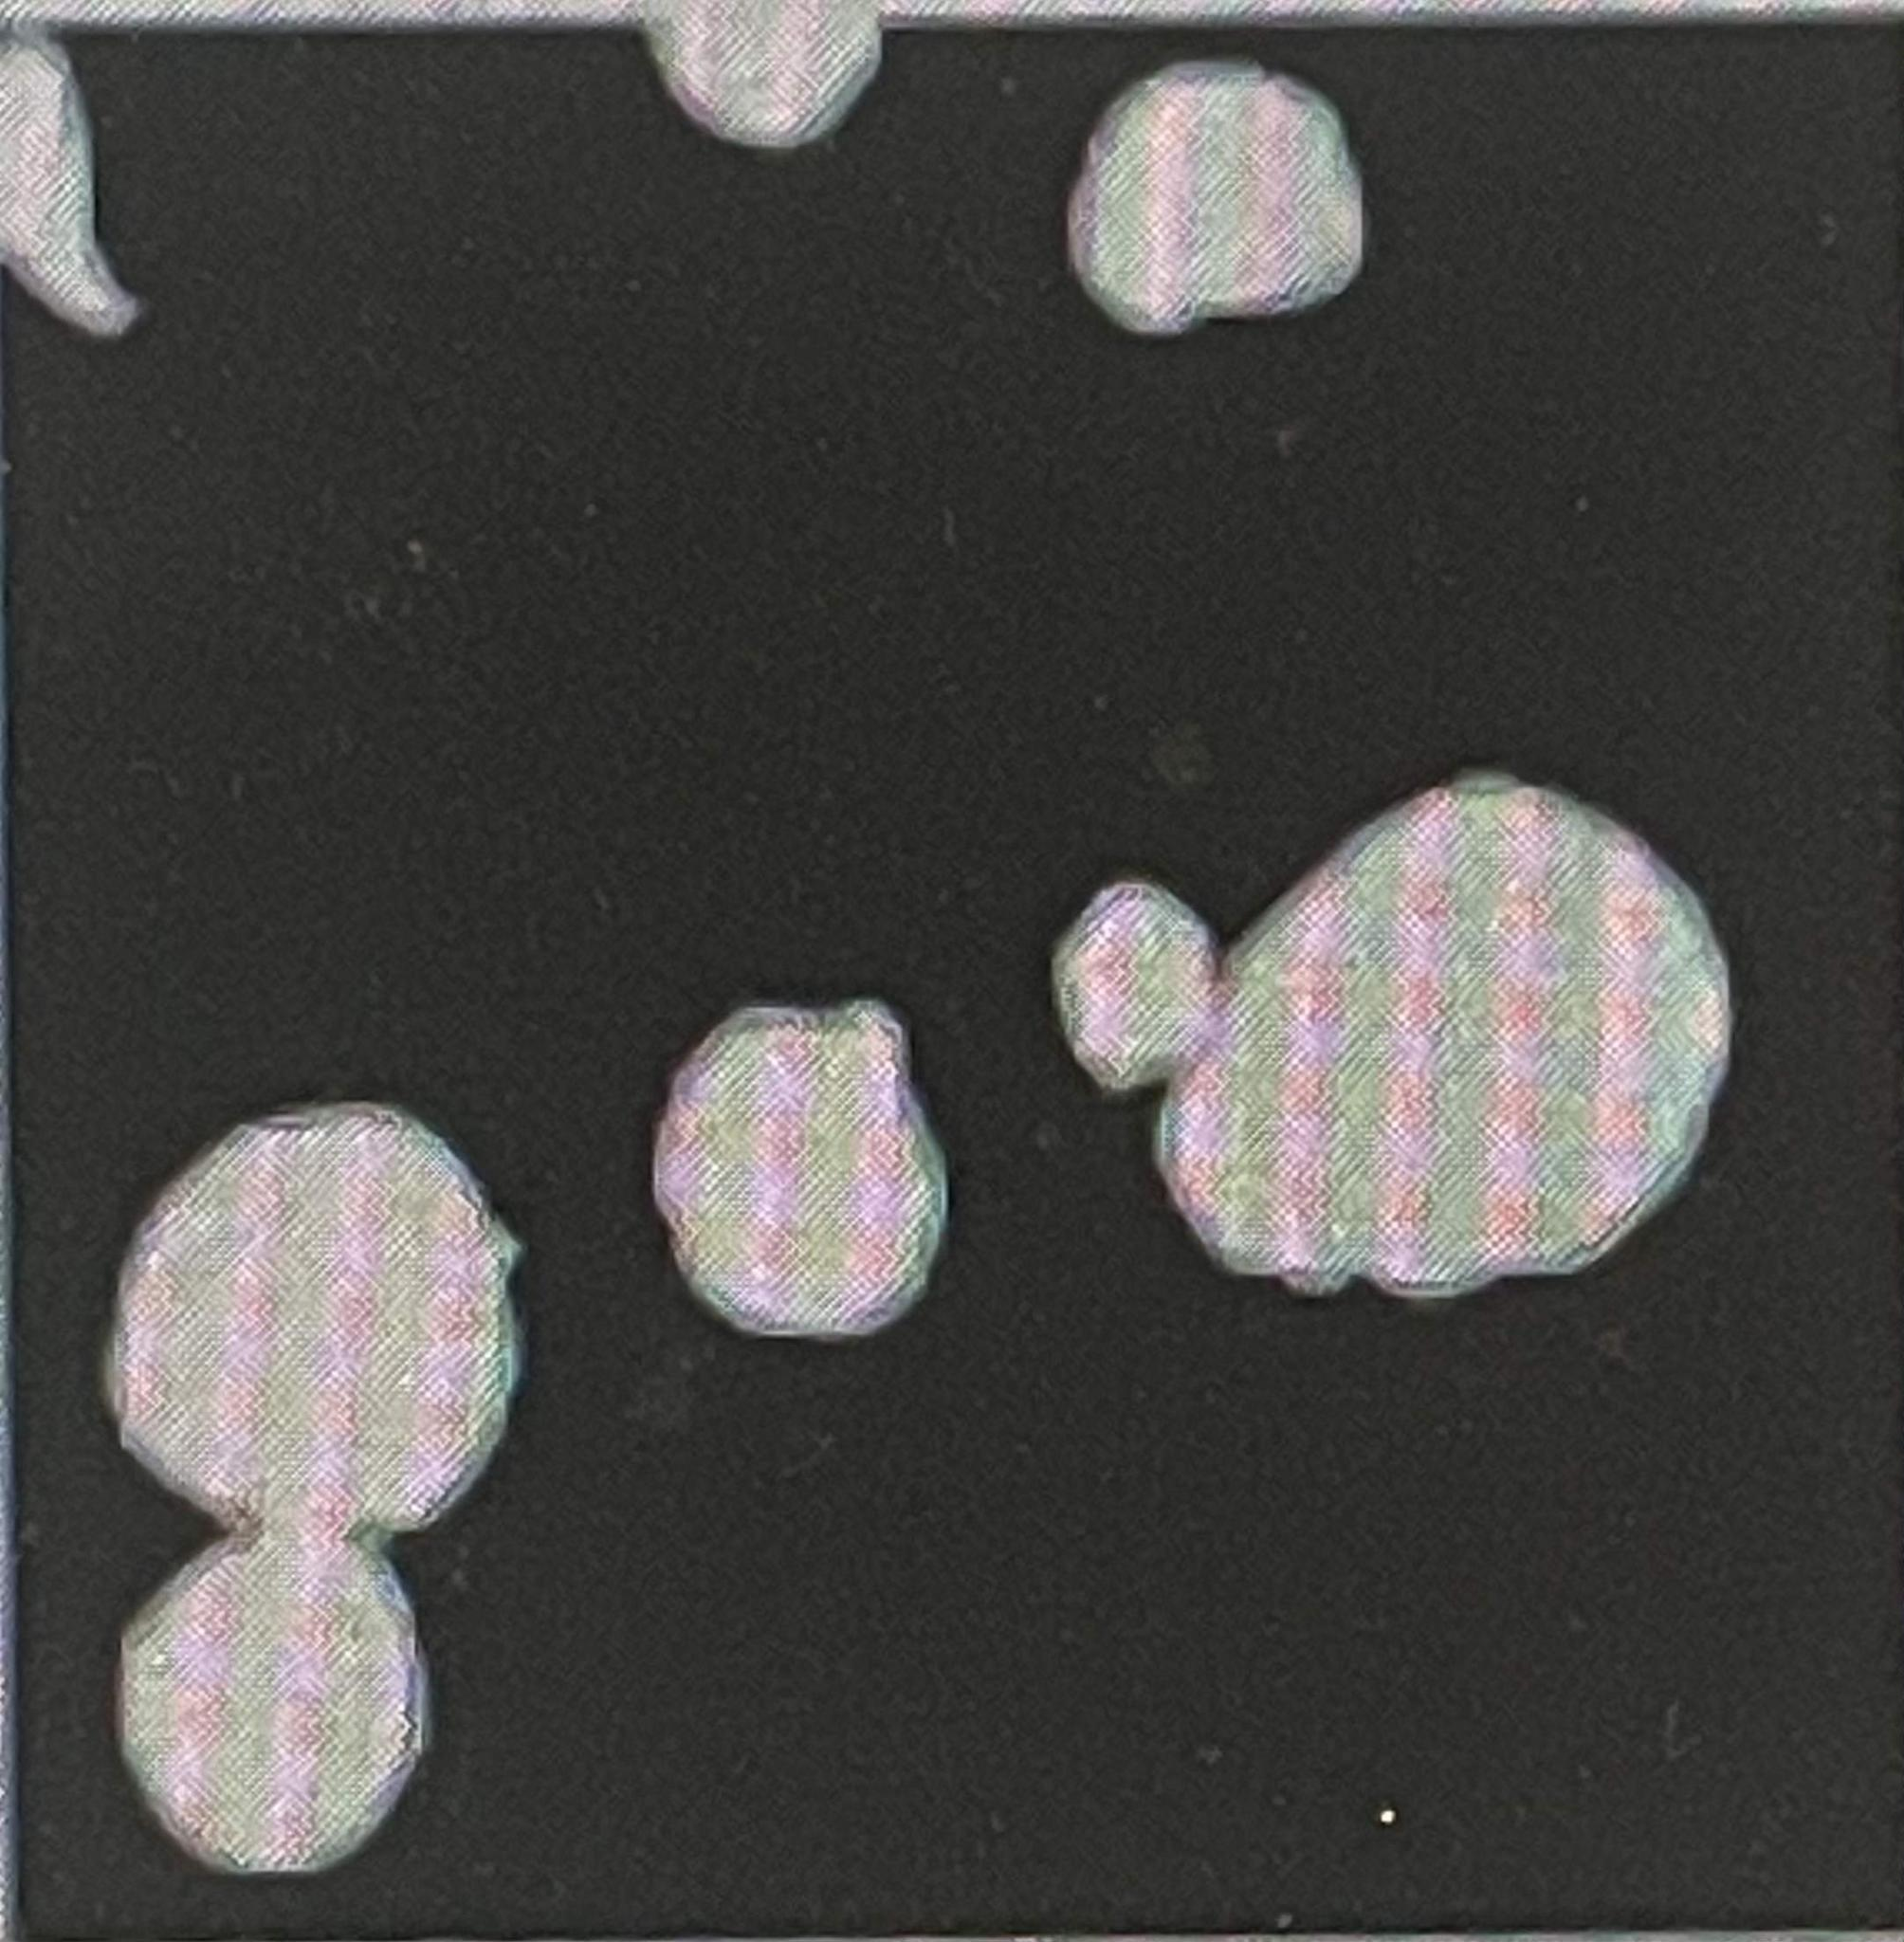cell: (1060, 755, 1763, 1304), (99, 1097, 534, 1876), (649, 990, 959, 1341), (1083, 70, 1362, 317), (0, 44, 146, 335), (652, 26, 884, 141)
